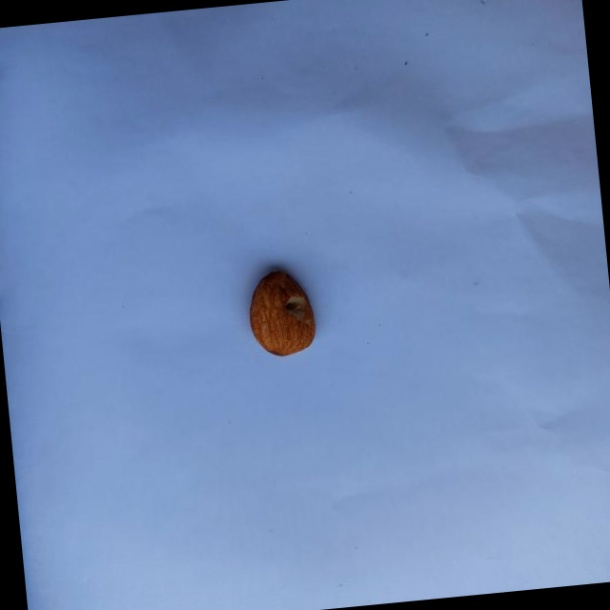grade3: (243, 263, 323, 363)
